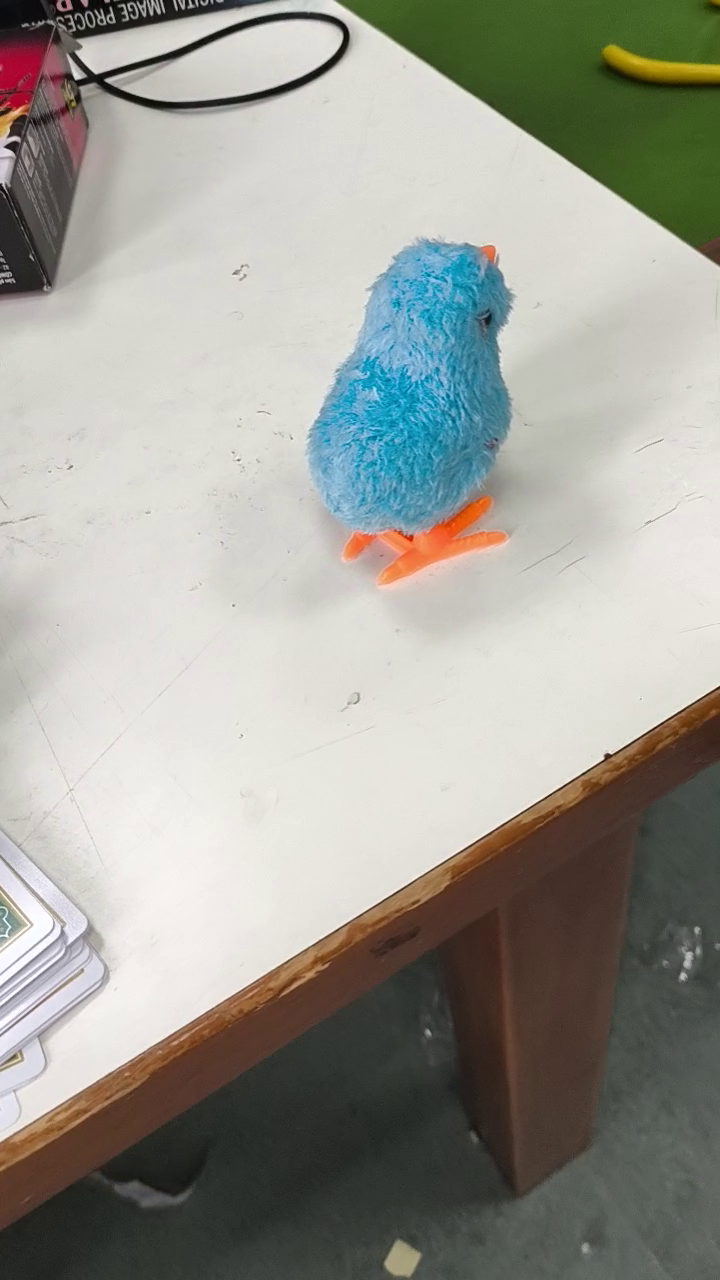blue chicken: (304, 236, 531, 589)
